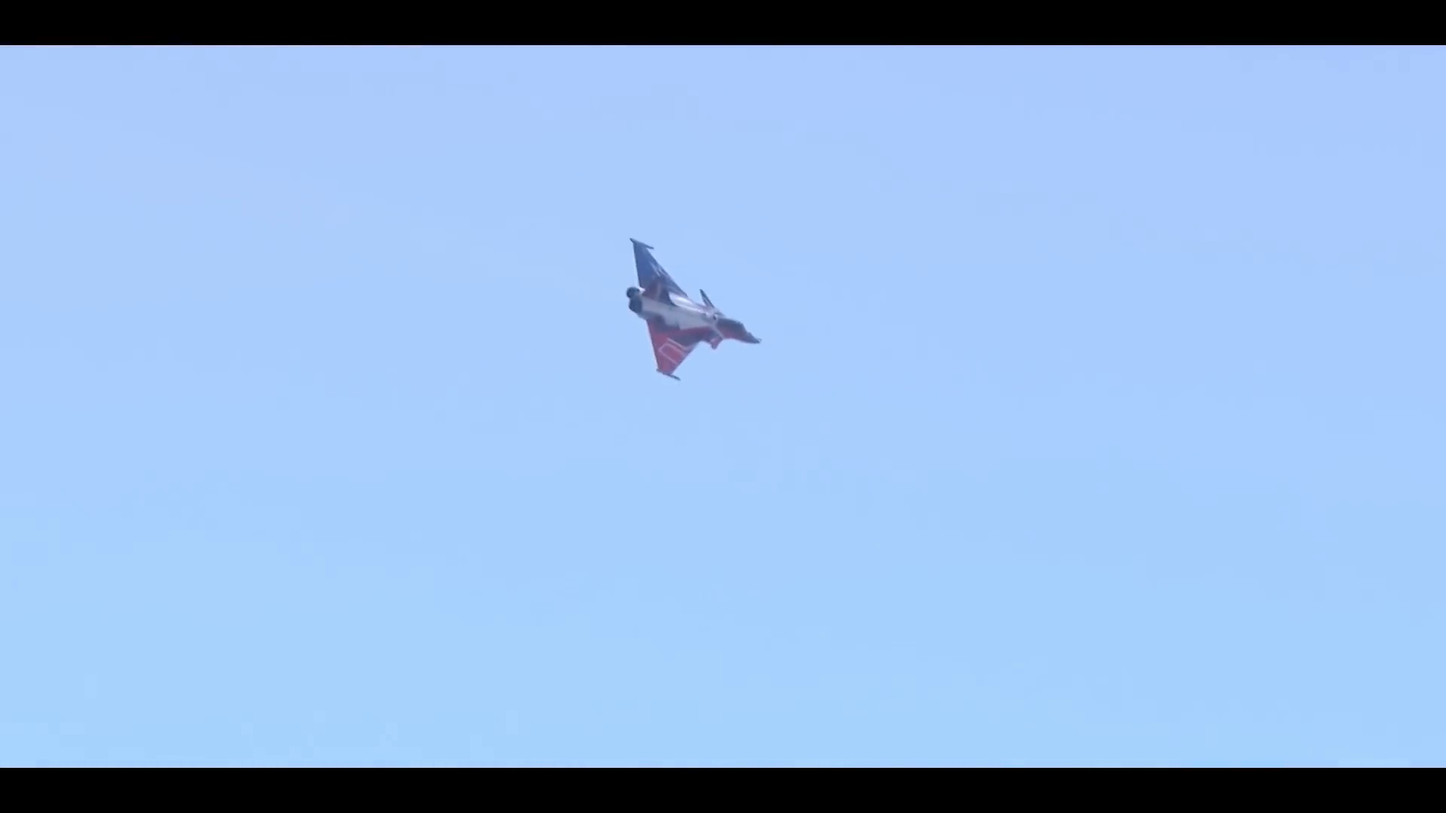Rafale: (623, 236, 769, 390)
